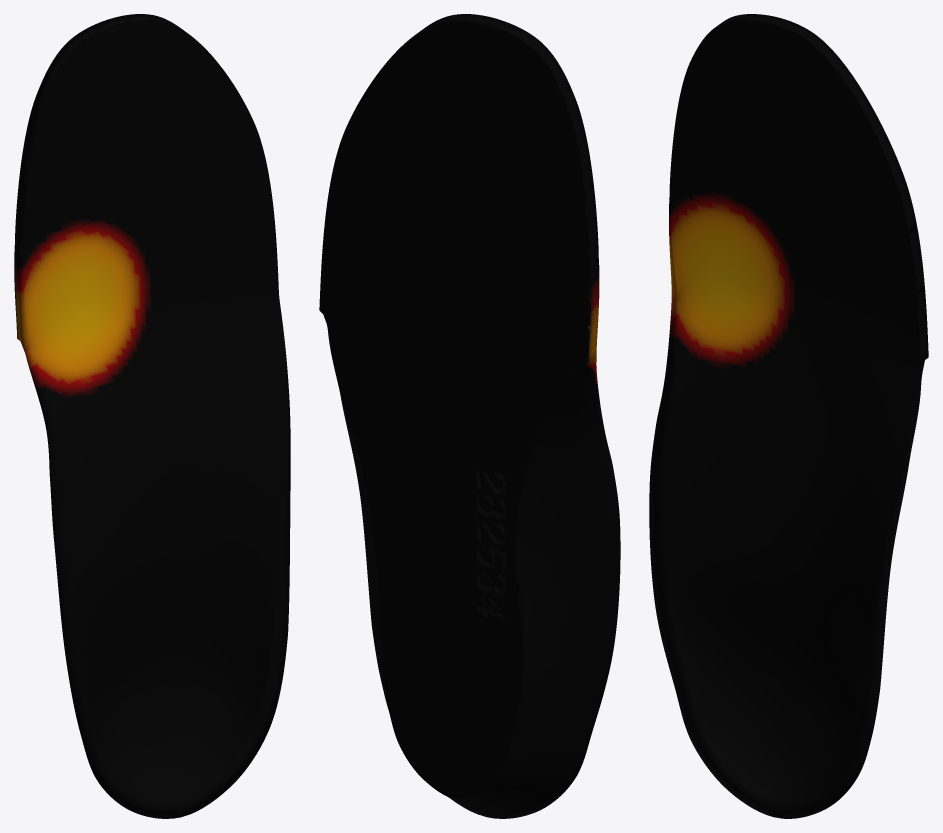
Rendered from PAIR-OFFLOAD-1ST_RIGHT.glb.
3 views of the same model, side by side, from view 1: azimuth 30°, elevation 25°; view 2: azimuth 150°, elevation 25°; view 3: azimuth 330°, elevation 25° (orthographic). The views are drawn at different scales.
Parts seen in each view (by area): view 1: world; view 2: world; view 3: world.
Boxes of the visible parts, x1,y1,x2,y2 form: world: (14, 14, 290, 818); world: (319, 14, 620, 818); world: (649, 14, 928, 818).
Size of the model in its own units: 90.19 by 261 by 22.2.
